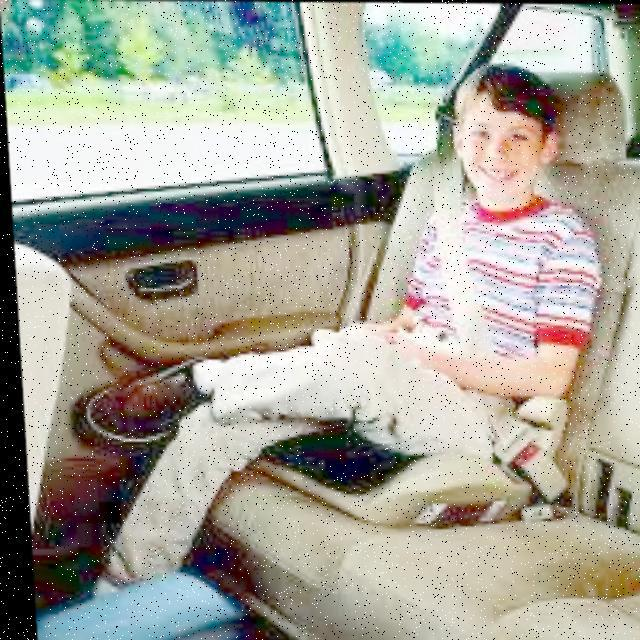seatbelt: (400, 182, 572, 516)
